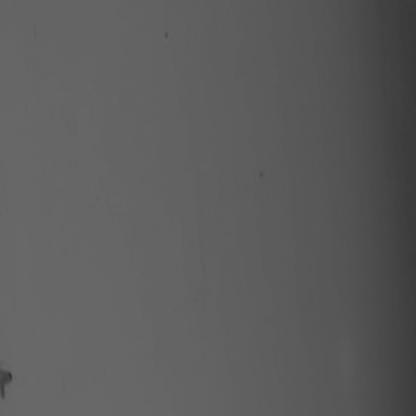kongdong: (1, 361, 23, 397)
